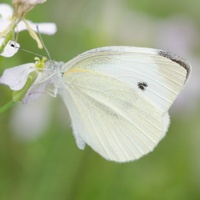insect: (0, 46, 190, 161)
